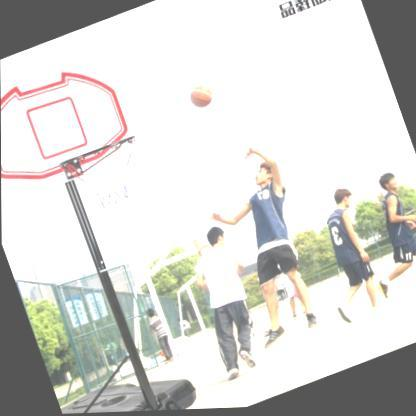basketball: (186, 82, 216, 114)
rim: (59, 132, 157, 224)
